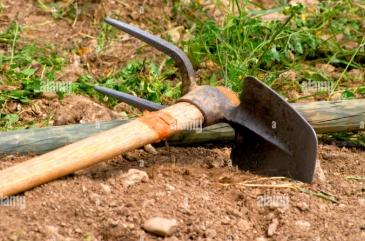HOUE: (0, 13, 325, 208)
